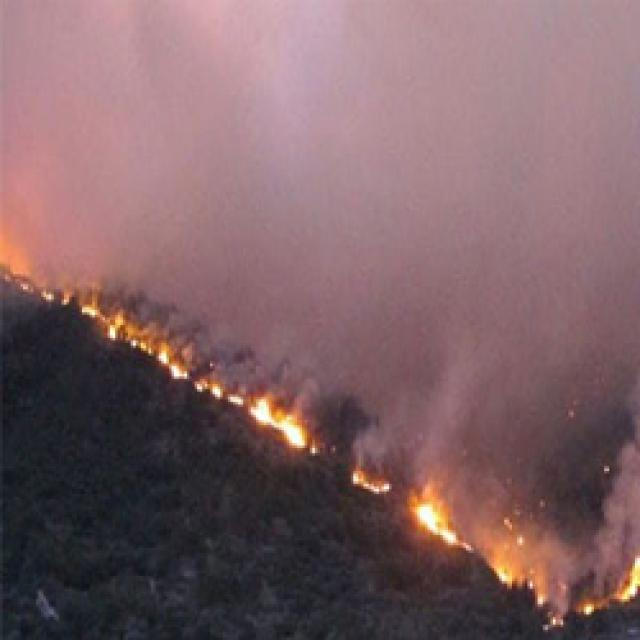Fire: (209, 358, 406, 498), (456, 484, 616, 638), (67, 283, 246, 401), (0, 223, 139, 344), (371, 442, 476, 567), (607, 526, 640, 620)
Smoke: (0, 0, 640, 338), (122, 242, 618, 590), (550, 335, 640, 640)
